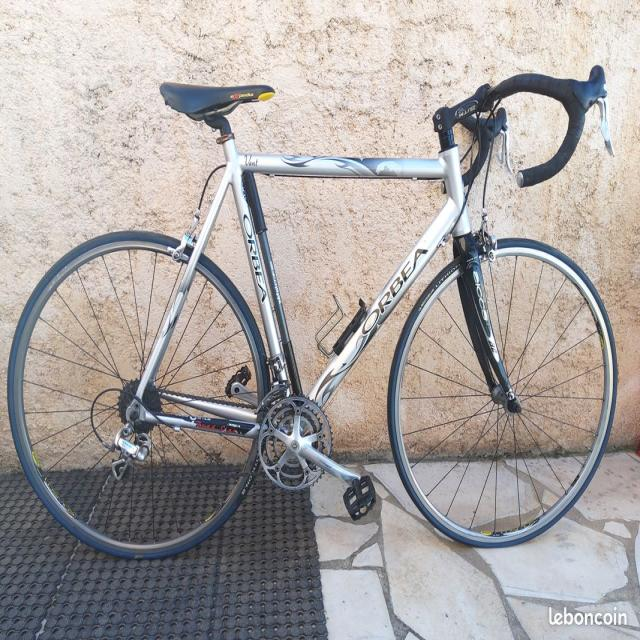Bike: (8, 62, 618, 564)
